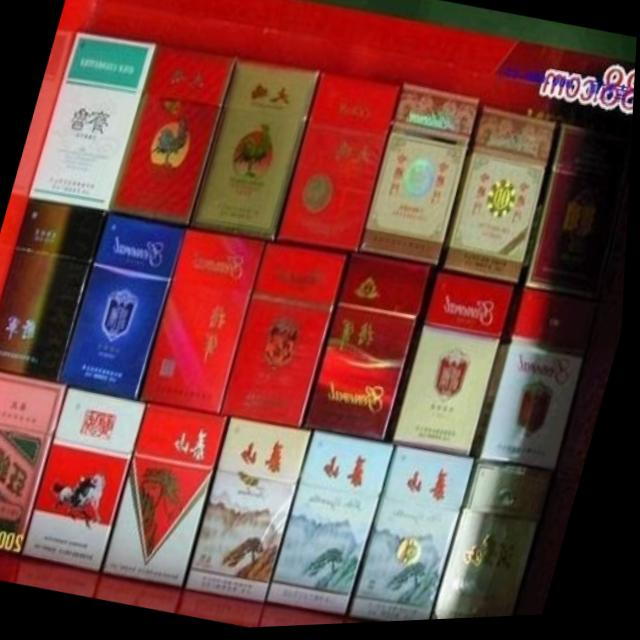box: (188, 417, 316, 608), (273, 432, 400, 619), (306, 254, 432, 442), (222, 244, 349, 428), (143, 230, 267, 418), (192, 63, 321, 242), (110, 45, 236, 227), (63, 216, 187, 400), (352, 447, 479, 626), (29, 387, 151, 573), (110, 403, 231, 590), (397, 274, 518, 461), (31, 33, 157, 212), (279, 73, 401, 253), (363, 87, 481, 269), (482, 293, 596, 481), (443, 110, 556, 289), (0, 200, 109, 383), (438, 465, 555, 624), (0, 371, 70, 552), (526, 129, 589, 298)
